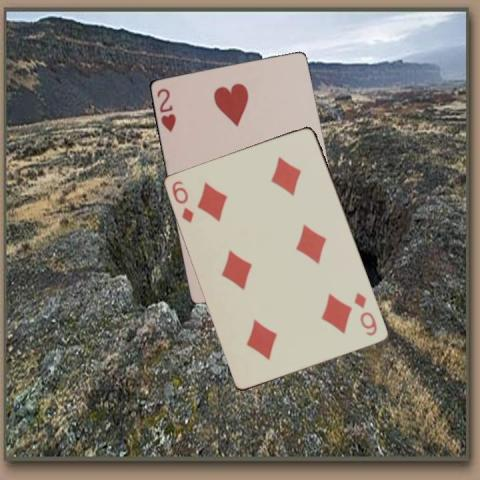2h: (154, 85, 178, 133)
6d: (350, 289, 378, 338), (169, 178, 196, 225)
